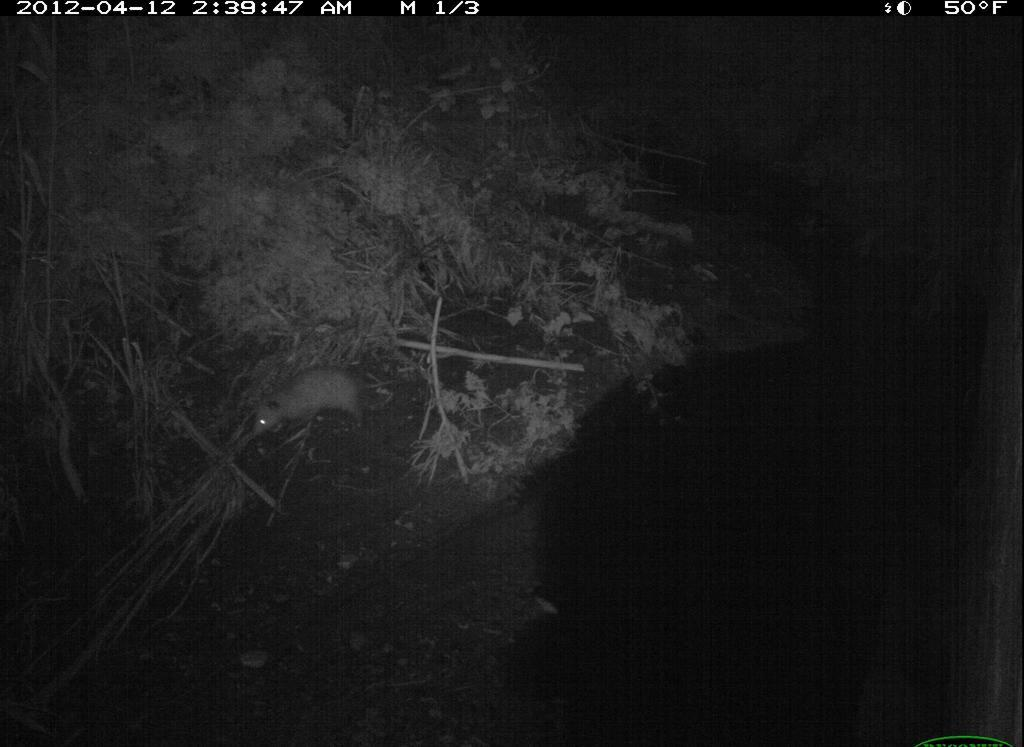opossum: (236, 360, 405, 442)
